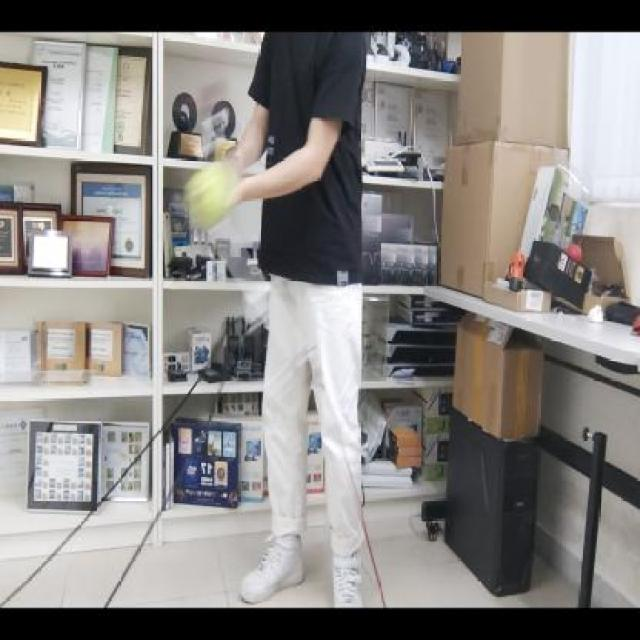baseball: (180, 166, 237, 228)
